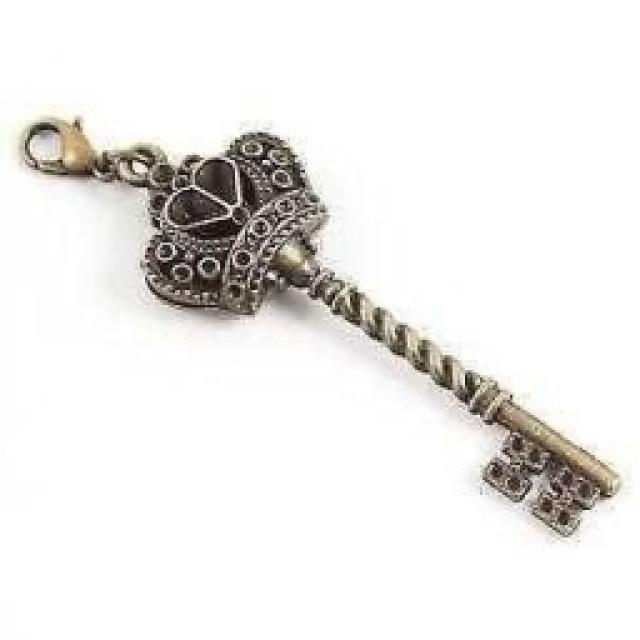anahtar: (21, 104, 625, 550)
